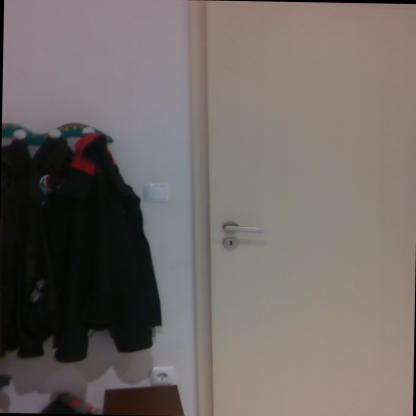closed: (181, 0, 416, 416)
